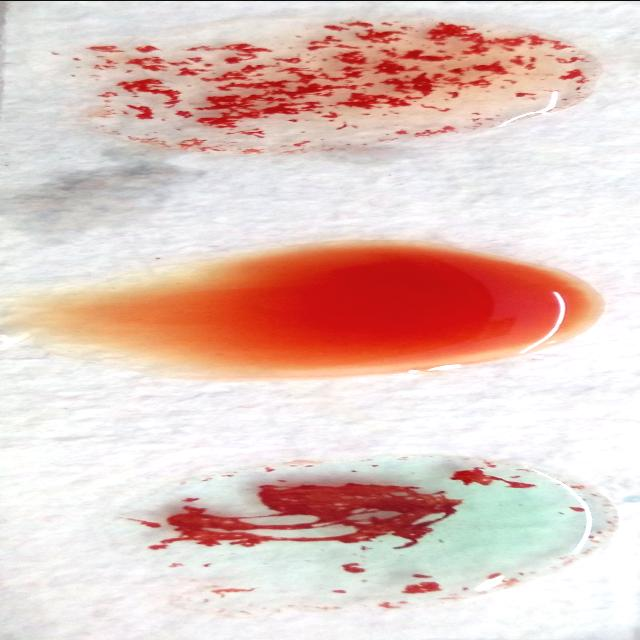A: (116, 454, 600, 600)
D: (81, 20, 608, 153)
